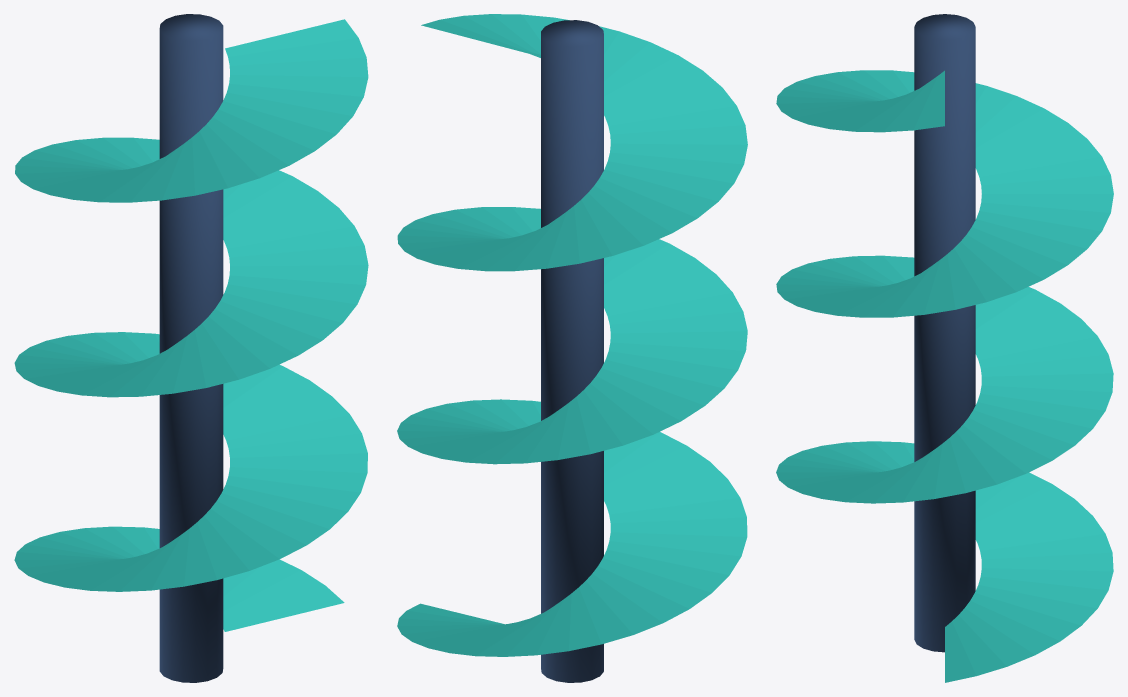
The model's file is archimedes-screw-lite.glb.
3 renders of one model, left to right at view 1: azimuth 30°, elevation 25°; view 2: azimuth 150°, elevation 25°; view 3: azimuth 270°, elevation 25°, orthographic. The views are drawn at different scales.
Parts seen in each view (by area): view 1: Shaft; view 2: Shaft; view 3: Shaft.
Part boxes in pixels (x1,y1,x2,y2): Shaft: (14, 14, 368, 682); Shaft: (397, 14, 747, 682); Shaft: (776, 14, 1113, 682).
Bounding box in the file's own units: 1.1 × 2.2 × 1.1.
